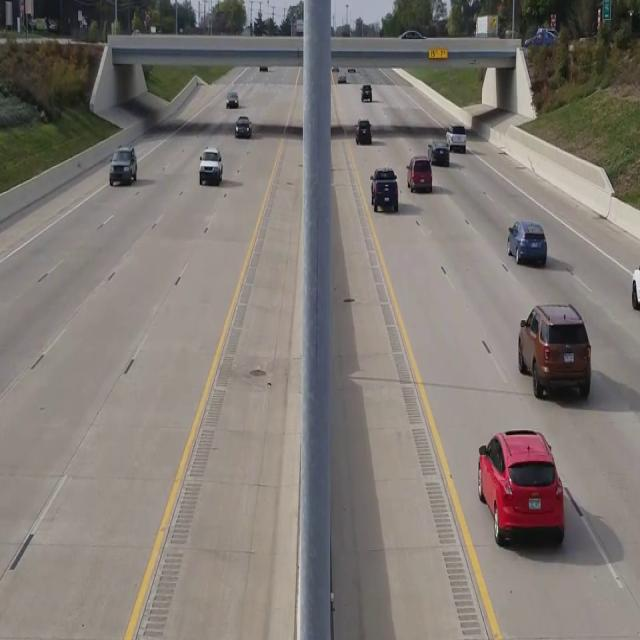car: (477, 428, 564, 546), (518, 302, 592, 398), (507, 219, 547, 267), (369, 167, 399, 212), (108, 144, 136, 185), (406, 155, 432, 192), (198, 147, 222, 185), (445, 123, 466, 152), (428, 141, 450, 165), (356, 118, 372, 144), (235, 116, 251, 138), (226, 91, 238, 107), (361, 83, 371, 101)
